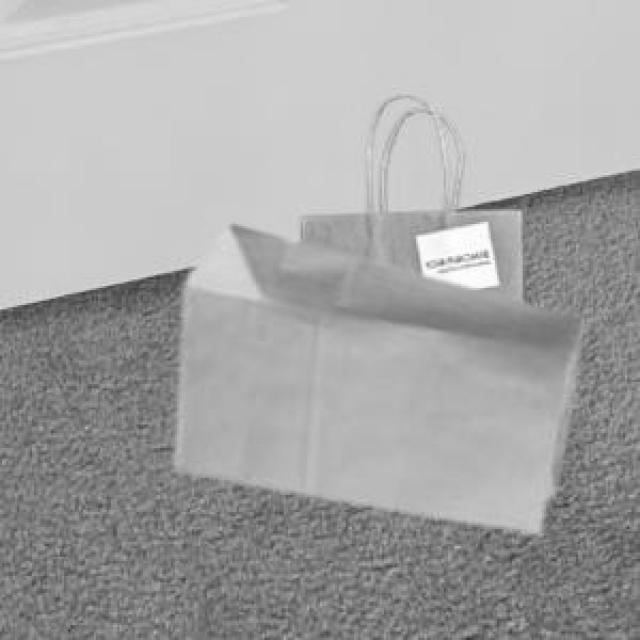paper: (171, 222, 578, 529), (297, 102, 520, 301)
